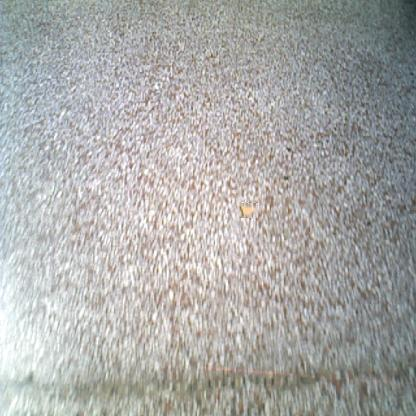dirty: (238, 202, 258, 218)
